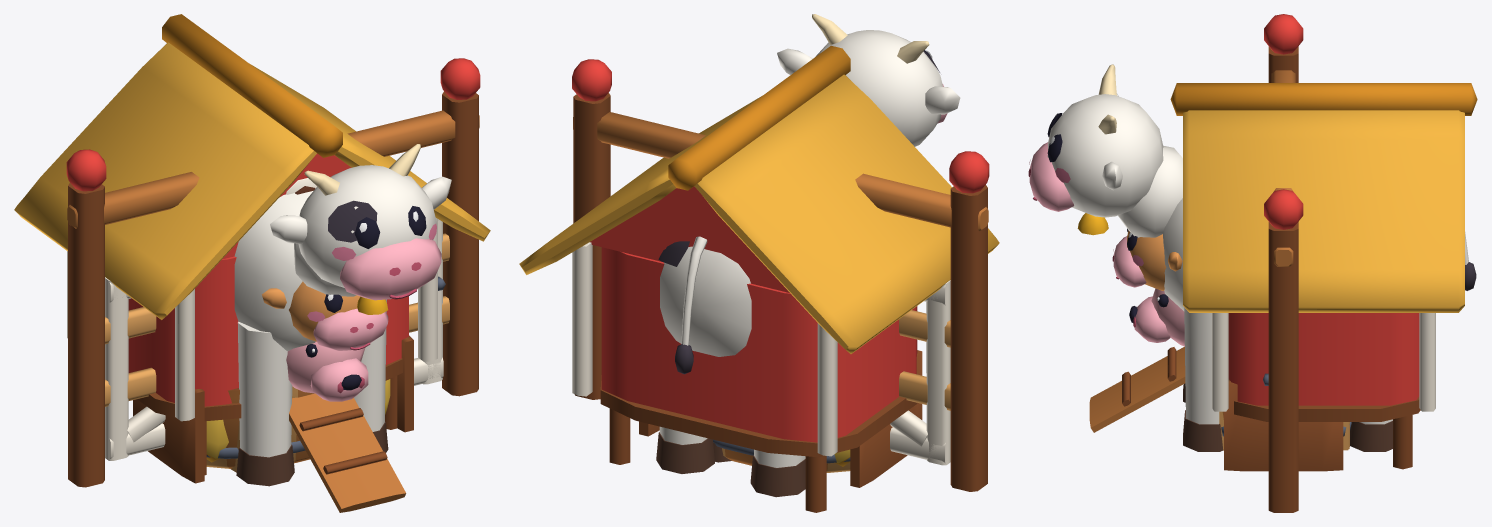
Rendered from farm.glb.
The picture shows the model from 3 angles, left to right: view 1: azimuth 30°, elevation 25°; view 2: azimuth 150°, elevation 25°; view 3: azimuth 270°, elevation 25°; orthographic projection. The views are drawn at different scales.
Parts seen in each view (by area): view 1: coop, pen_gate_frame, cow_head, cow_leg_fl, cow_body, pen_gate_door, calf_head, feed_trough, pig_head, pen_fence, cow_leg_fr, water_trough (+1 smaller); view 2: coop, pen_gate_frame, cow_head, cow_body, pen_gate_door, feed_trough, cow_leg_bl, cow_leg_br, pen_fence, cow_tail, water_trough; view 3: coop, cow_head, pen_gate_frame, feed_trough, cow_leg_fr, calf_head, pig_head, cow_body, cow_leg_br.
Boxes of the visible parts, bbox=[...] form: coop: bbox=[14, 14, 490, 512]; pen_gate_frame: bbox=[66, 58, 480, 487]; cow_head: bbox=[270, 144, 451, 314]; cow_leg_fl: bbox=[236, 321, 294, 486]; cow_body: bbox=[234, 188, 315, 350]; pen_gate_door: bbox=[105, 219, 445, 460]; calf_head: bbox=[262, 281, 388, 350]; feed_trough: bbox=[133, 335, 413, 483]; pig_head: bbox=[286, 341, 368, 401]; pen_fence: bbox=[105, 233, 449, 406]; cow_leg_fr: bbox=[354, 299, 388, 452]; water_trough: bbox=[206, 386, 314, 468]; coop: bbox=[519, 45, 999, 512]; pen_gate_frame: bbox=[572, 59, 989, 491]; cow_head: bbox=[777, 14, 960, 146]; cow_body: bbox=[658, 241, 751, 356]; pen_gate_door: bbox=[890, 280, 950, 465]; feed_trough: bbox=[639, 350, 922, 487]; cow_leg_bl: bbox=[750, 449, 805, 497]; cow_leg_br: bbox=[656, 426, 714, 473]; pen_fence: bbox=[899, 310, 950, 410]; cow_tail: bbox=[675, 236, 707, 374]; water_trough: bbox=[713, 439, 850, 472]; coop: bbox=[1089, 83, 1477, 469]; cow_head: bbox=[1028, 64, 1182, 237]; pen_gate_frame: bbox=[1264, 14, 1303, 512]; feed_trough: bbox=[1224, 379, 1343, 471]; cow_leg_fr: bbox=[1183, 307, 1223, 451]; calf_head: bbox=[1112, 228, 1182, 290]; pig_head: bbox=[1133, 288, 1184, 346]; cow_body: bbox=[1163, 198, 1184, 311]; cow_leg_br: bbox=[1350, 419, 1392, 451].
Bounding box in the file's own units: 2.19 × 1.78 × 2.17.
